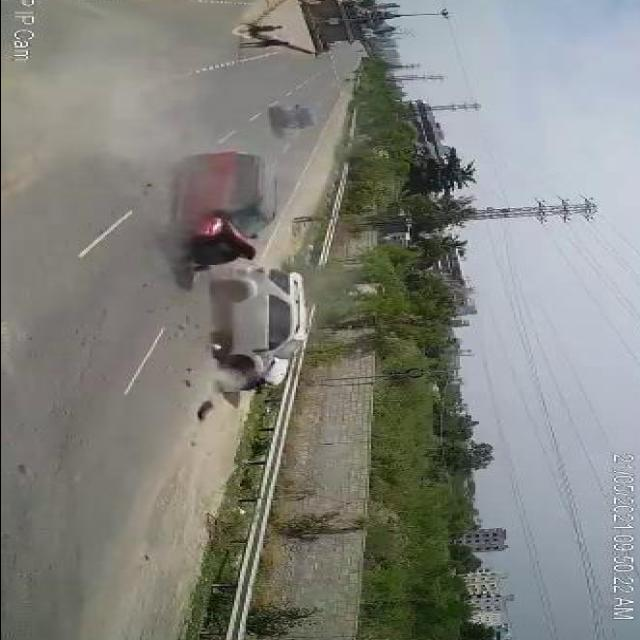accident: (145, 138, 331, 426)
